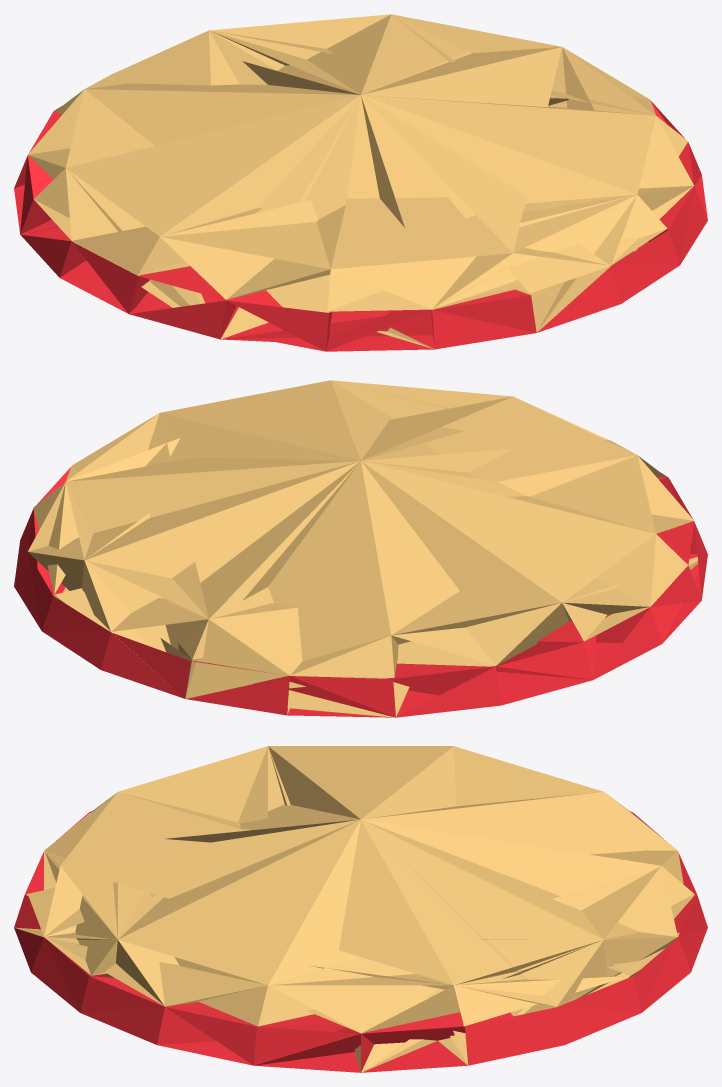
Rendered from S.S._Dolphin_Guard_Satellite_8.obj.
The picture shows the model from 3 angles, top to bottom: view 1: azimuth 30°, elevation 25°; view 2: azimuth 150°, elevation 25°; view 3: azimuth 270°, elevation 25°; orthographic projection.
Visible parts, largest first — view 1: S.S._Dolphin_Guard_Satellite_8; view 2: S.S._Dolphin_Guard_Satellite_8; view 3: S.S._Dolphin_Guard_Satellite_8.
Part boxes in pixels (x1,y1,x2,y2): S.S._Dolphin_Guard_Satellite_8: (14, 14, 707, 351); S.S._Dolphin_Guard_Satellite_8: (14, 380, 707, 717); S.S._Dolphin_Guard_Satellite_8: (14, 746, 707, 1072).
Size of the model in its own units: 2.25 by 0.3899 by 2.27.
